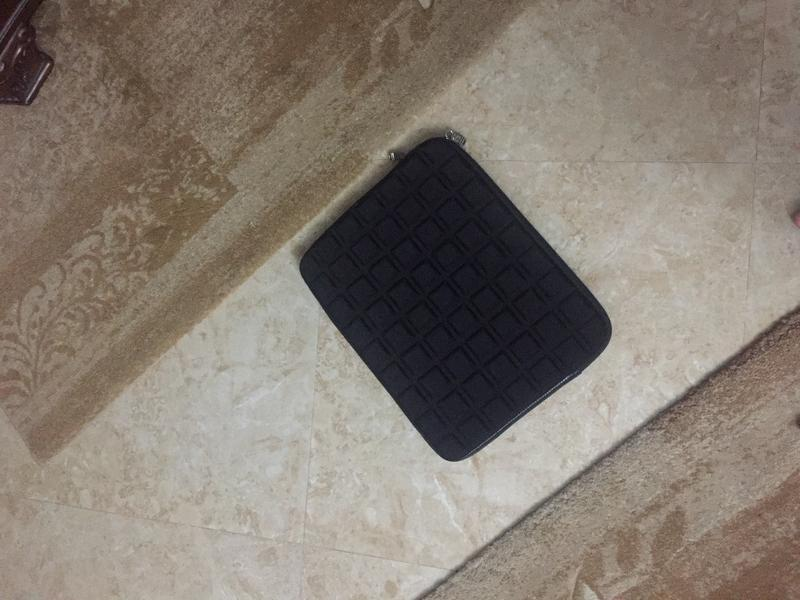cover: (294, 128, 619, 469)
